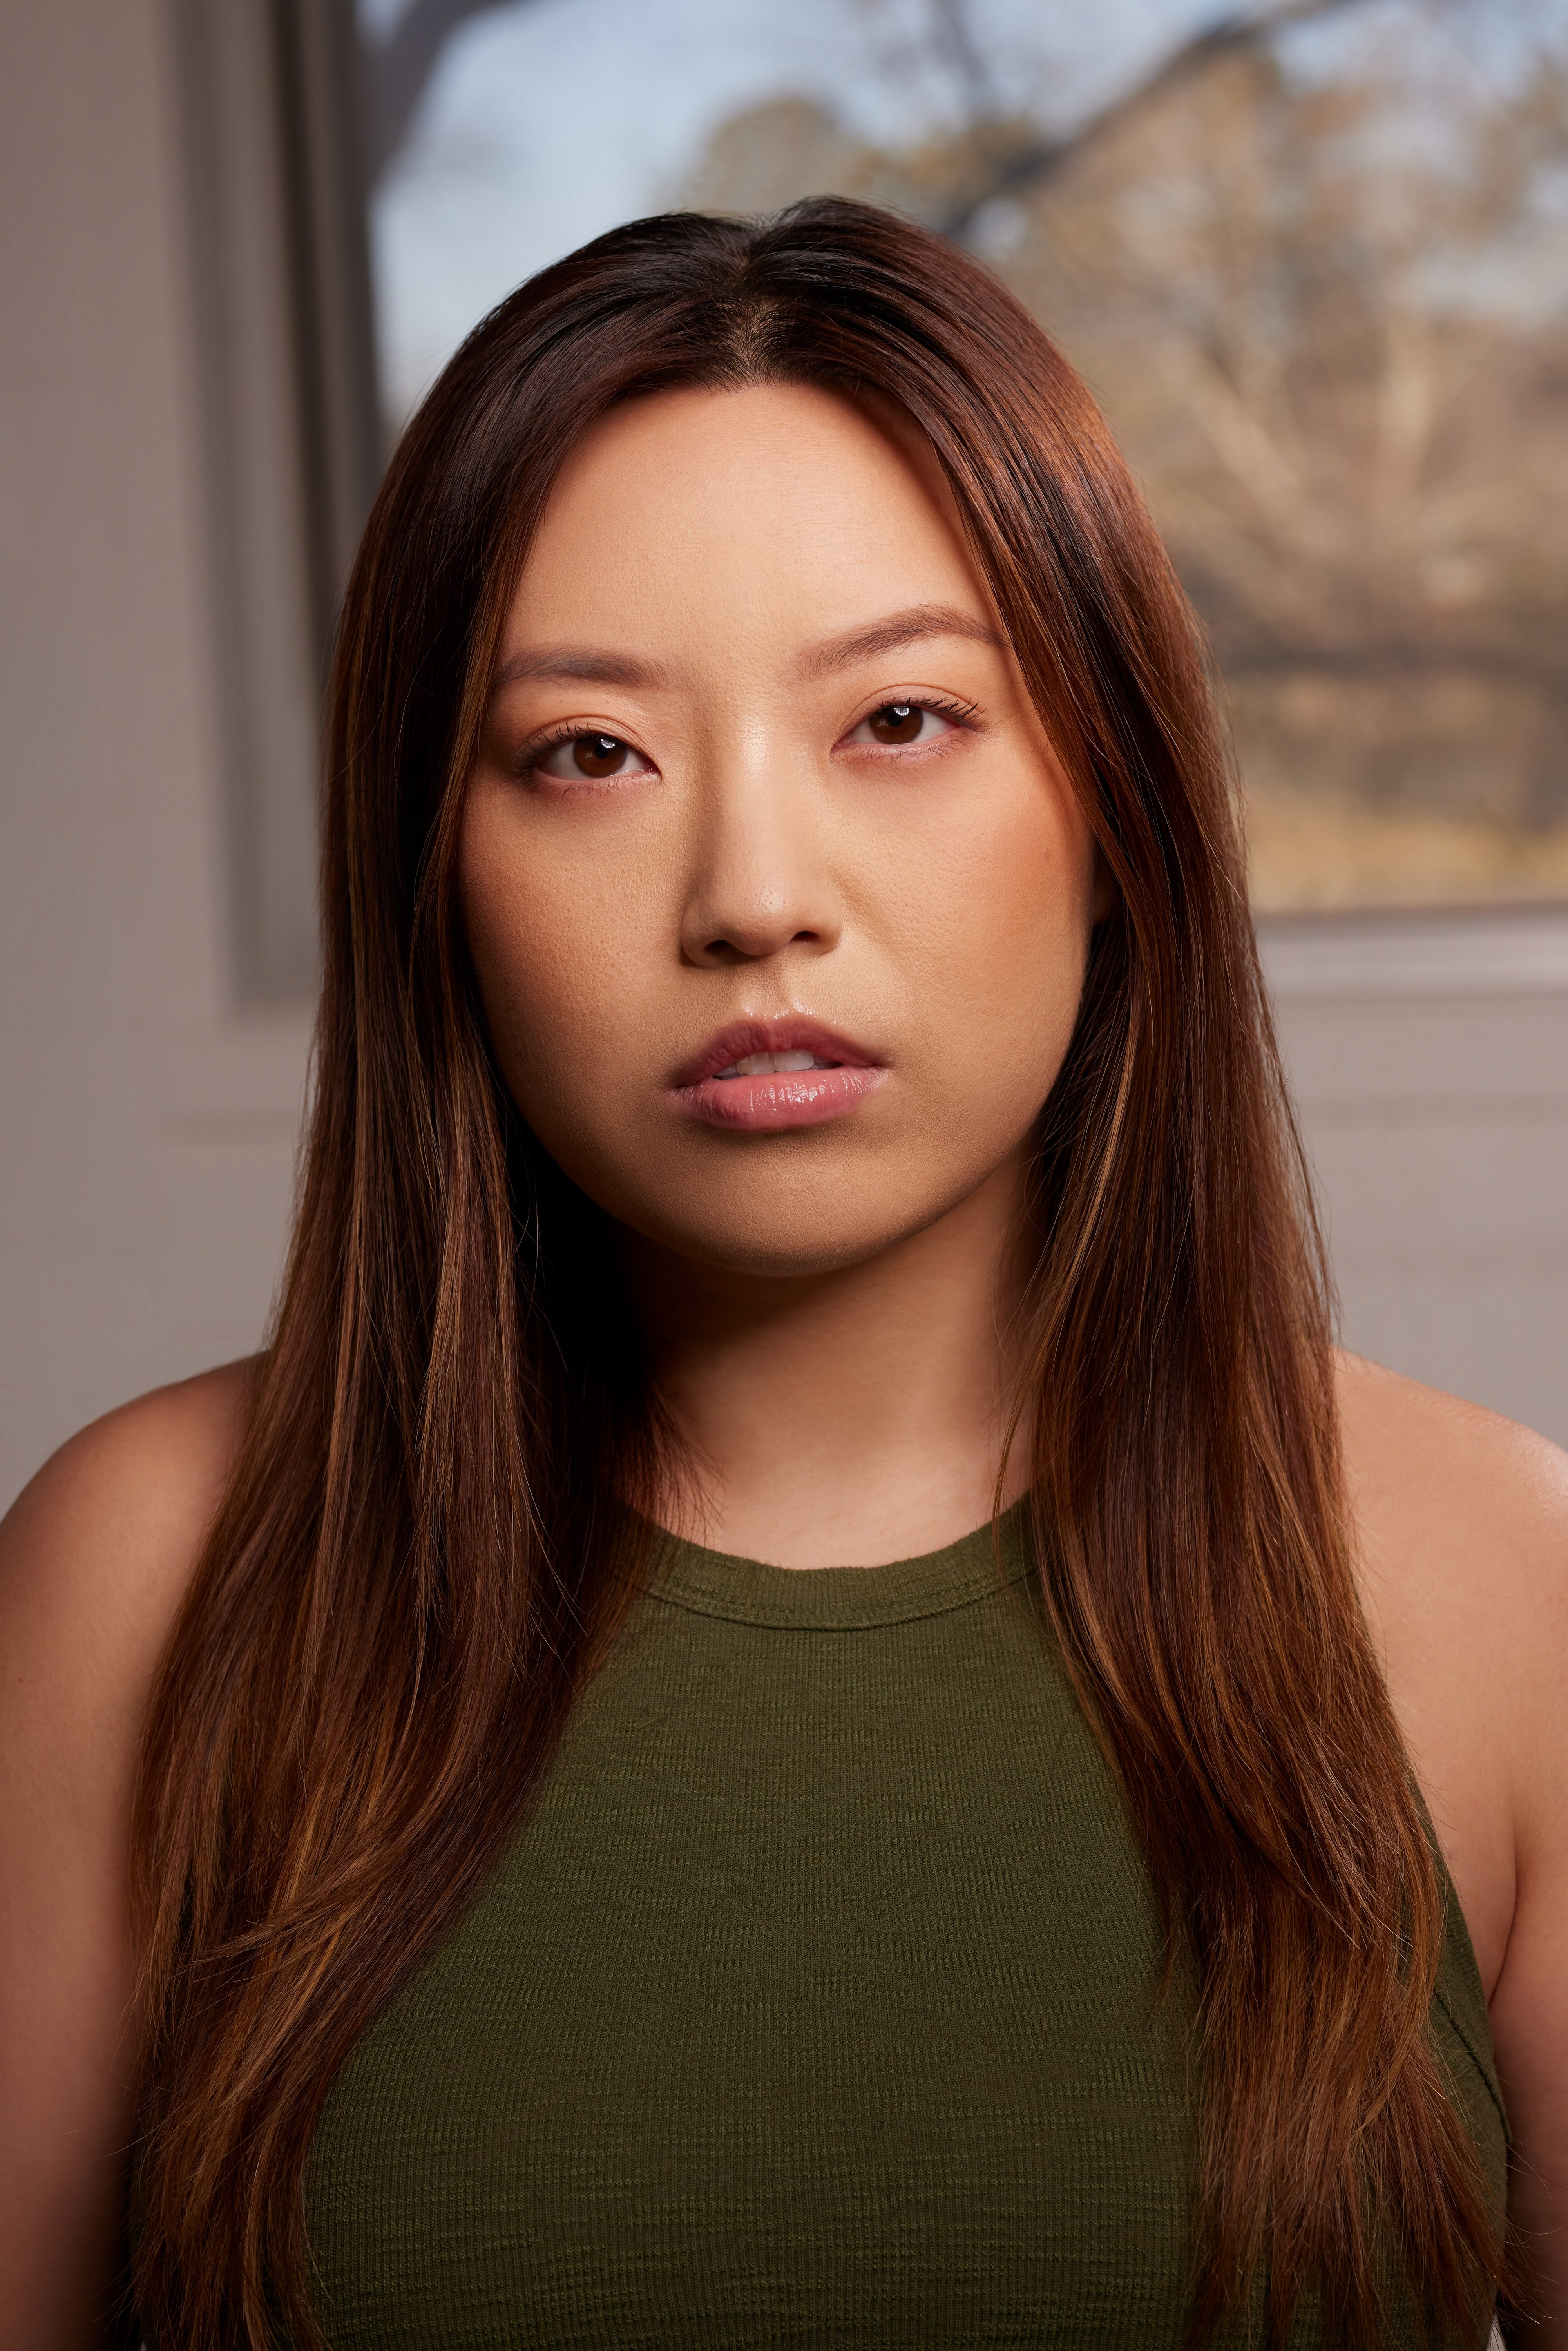NoMask: (494, 568, 1043, 1250)
